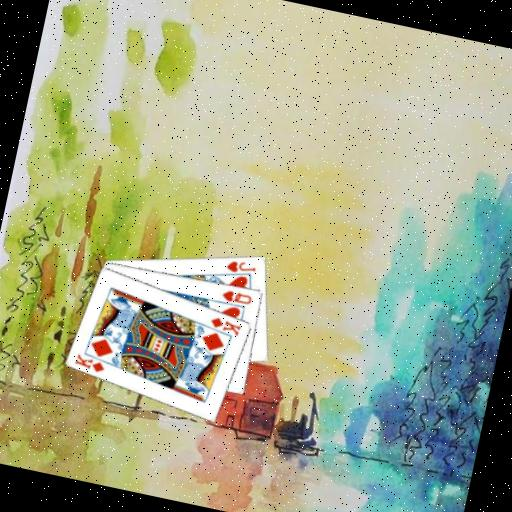JH: (222, 255, 259, 278)
KD: (206, 313, 244, 338), (71, 350, 108, 375)
QH: (218, 285, 254, 307)
